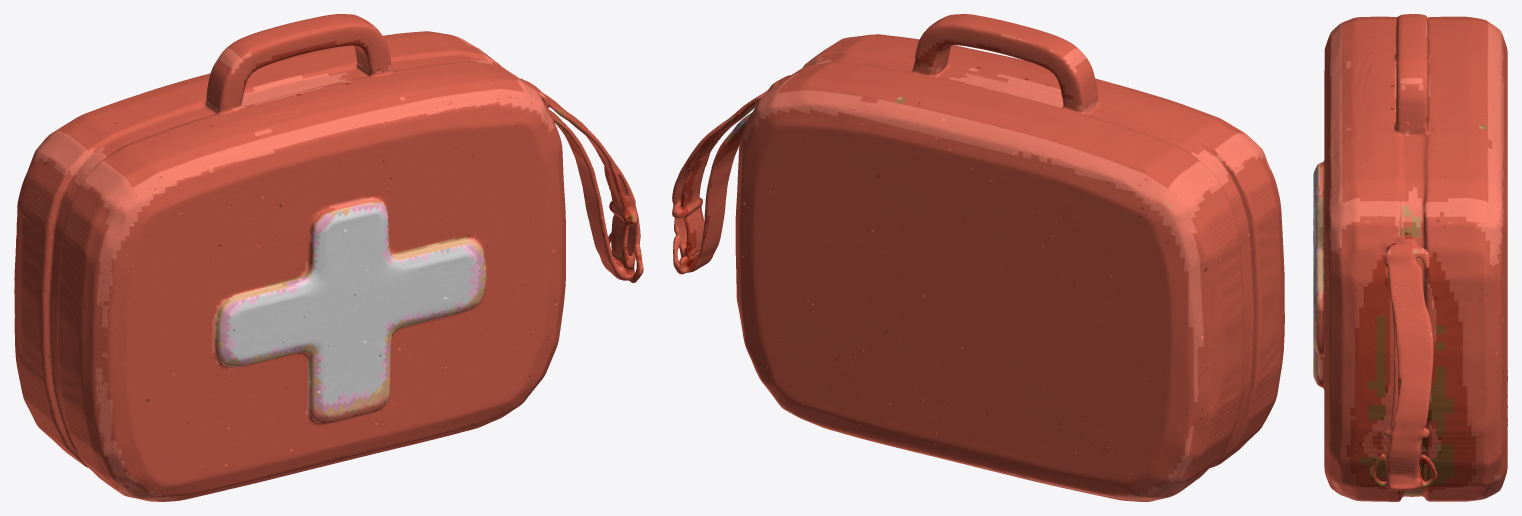
The model's file is medical.glb.
3 views of the same model, side by side, from view 1: azimuth 30°, elevation 25°; view 2: azimuth 150°, elevation 25°; view 3: azimuth 270°, elevation 25° (orthographic). The views are drawn at different scales.
Bounding box in the file's own units: 2 × 1.37 × 0.6152.
Materials: 1 (1 with a texture image).
